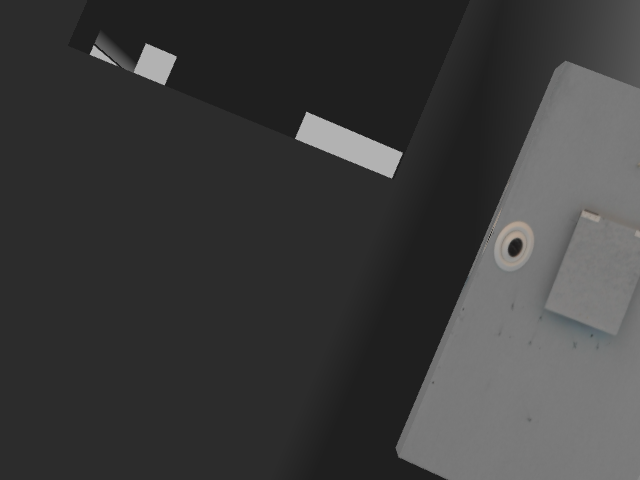facade: (491, 207, 639, 342)
